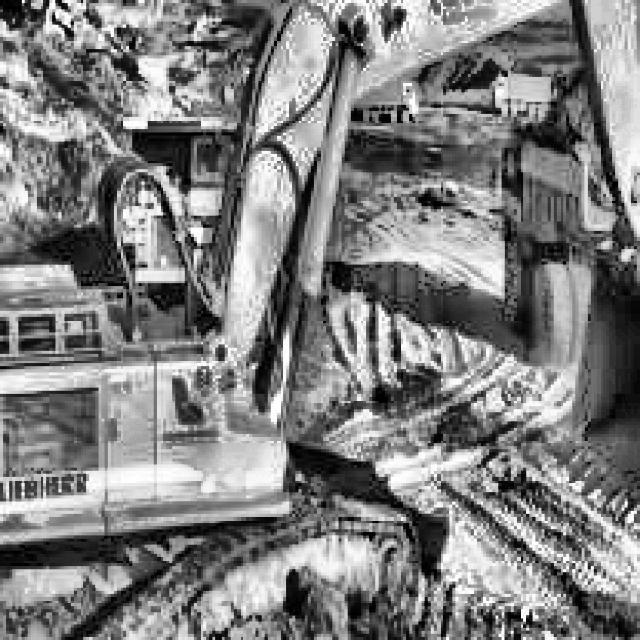dump_truck: (486, 61, 551, 114), (363, 73, 419, 119)
excavator: (0, 0, 640, 640)
